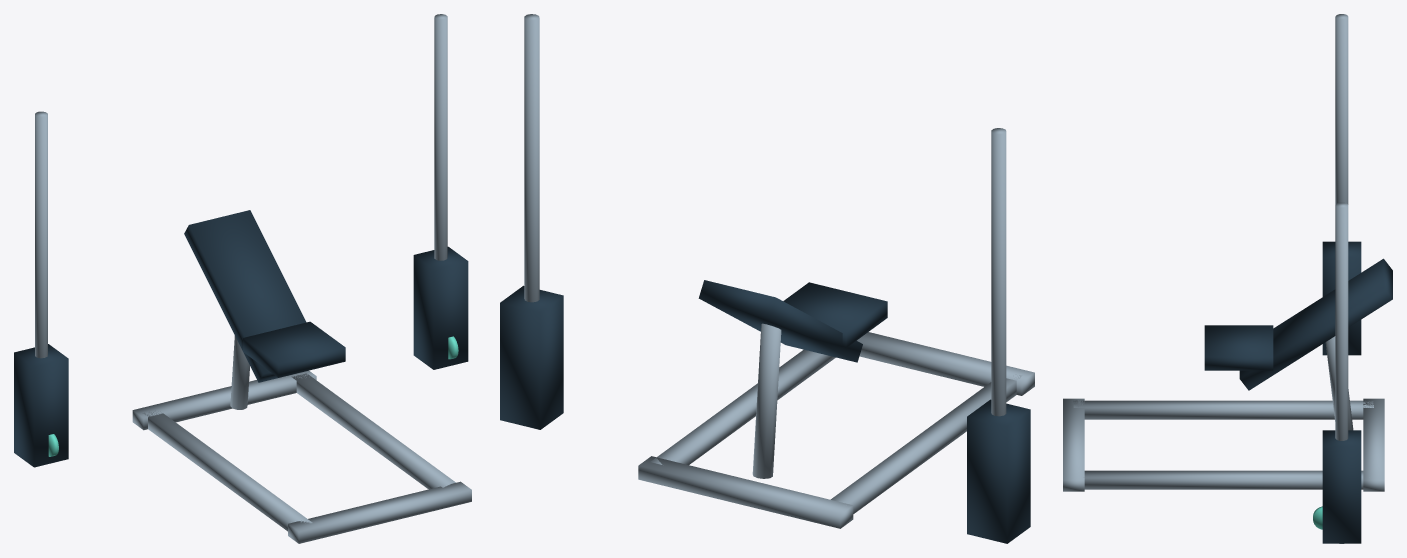
File: machine_b_low_to_high_cable_fly.glb
3 renders of one model, left to right at view 1: azimuth 30°, elevation 25°; view 2: azimuth 150°, elevation 25°; view 3: azimuth 270°, elevation 25°, orthographic. The views are drawn at different scales.
Parts seen in each view (by area): view 1: base, incline_backrest, stack_L, stack_R, seat, tower_L, tower_R, back_support; view 2: base, stack_L, stack_R, incline_backrest, tower_L, tower_R, seat, back_support; view 3: base, incline_backrest, stack_L, tower_L, seat, tower_R, stack_R, back_support.
Part boxes in pixels (x1,y1,x2,y2): base: [132, 370, 471, 543]; incline_backrest: [184, 210, 306, 382]; stack_L: [413, 246, 468, 369]; stack_R: [14, 344, 68, 467]; seat: [243, 321, 345, 377]; tower_L: [434, 14, 447, 260]; tower_R: [35, 111, 47, 358]; back_support: [230, 335, 249, 409]; base: [638, 332, 1034, 528]; stack_L: [500, 285, 563, 429]; stack_R: [967, 399, 1030, 543]; incline_backrest: [698, 280, 862, 362]; tower_L: [524, 14, 539, 302]; tower_R: [991, 128, 1006, 416]; seat: [783, 282, 887, 347]; back_support: [752, 323, 781, 478]; base: [1063, 398, 1384, 491]; incline_backrest: [1239, 258, 1392, 390]; stack_L: [1322, 430, 1361, 543]; tower_L: [1335, 202, 1348, 543]; seat: [1204, 325, 1273, 370]; tower_R: [1335, 14, 1348, 204]; stack_R: [1322, 241, 1361, 355]; back_support: [1325, 336, 1353, 430].
Bounding box in the file's own units: 2.26 × 1.75 × 1.54.
